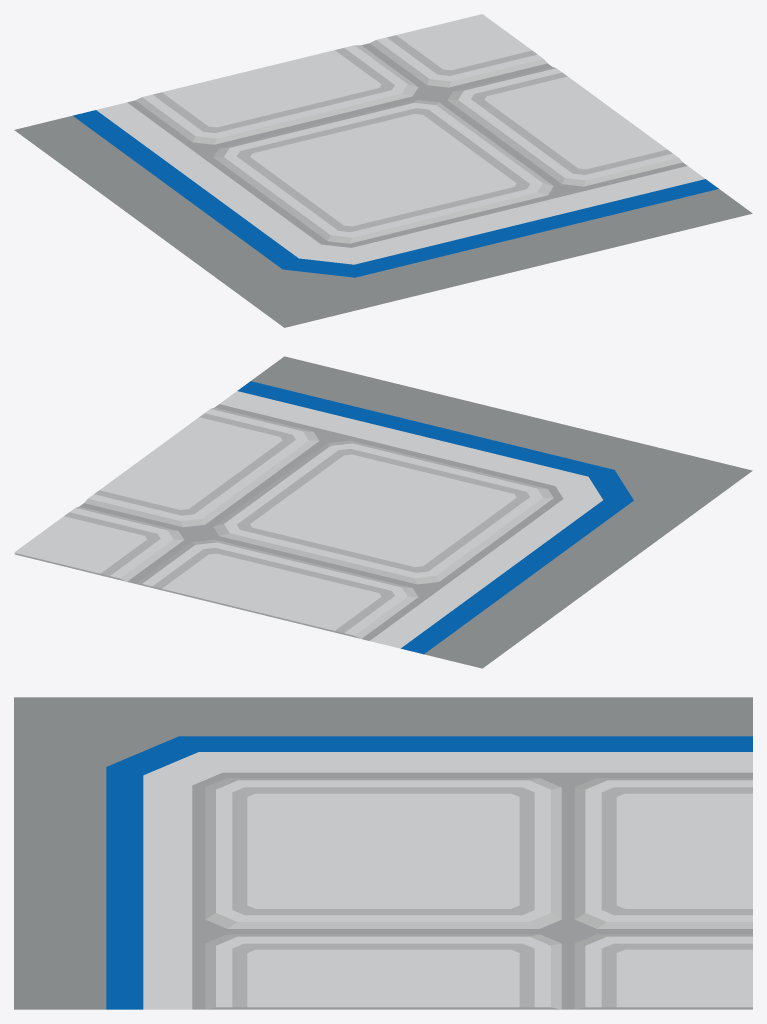
File: Floor_type_A_022.fbx
3 views of the same model, one above another, from view 1: azimuth 30°, elevation 25°; view 2: azimuth 150°, elevation 25°; view 3: azimuth 270°, elevation 25° (orthographic). The views are drawn at different scales.
Visible parts, largest first — view 1: Floor_type_A_022; view 2: Floor_type_A_022; view 3: Floor_type_A_022.
Boxes of the visible parts, x1,y1,x2,y2 form: Floor_type_A_022: (14, 14, 752, 327); Floor_type_A_022: (14, 356, 752, 668); Floor_type_A_022: (14, 697, 752, 1009).
Size of the model in its own units: 400 by 400 by 1.34.
